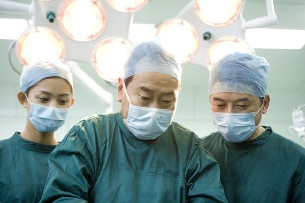Mask: (125, 82, 180, 137)
